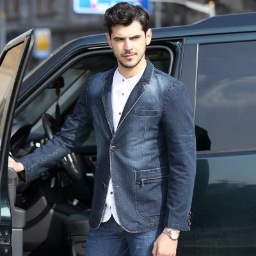face: (104, 2, 153, 67)
